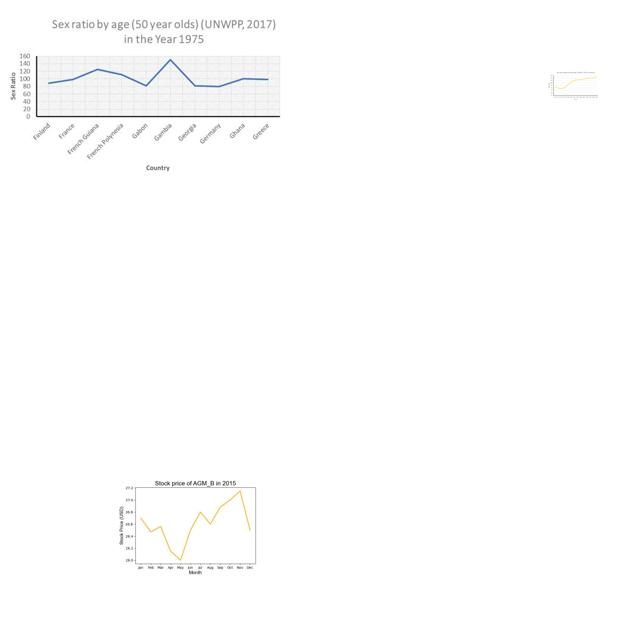Graph: (2, 13, 284, 175), (116, 467, 271, 583), (547, 71, 599, 101)
